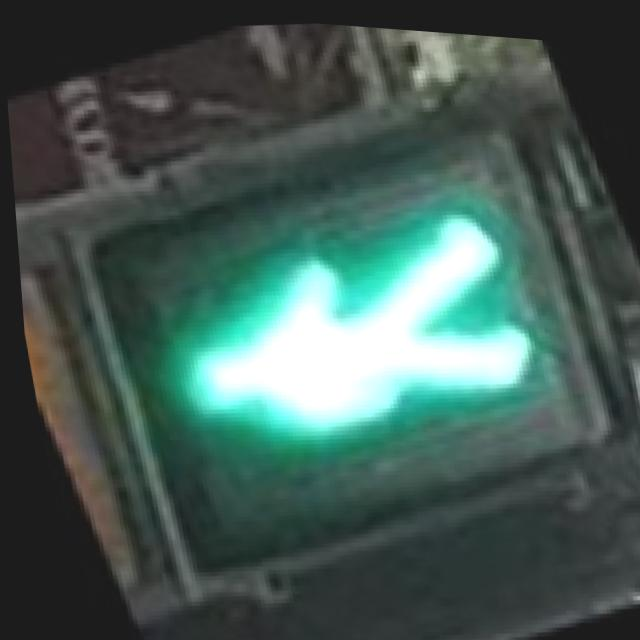green_light: (44, 77, 623, 613)
